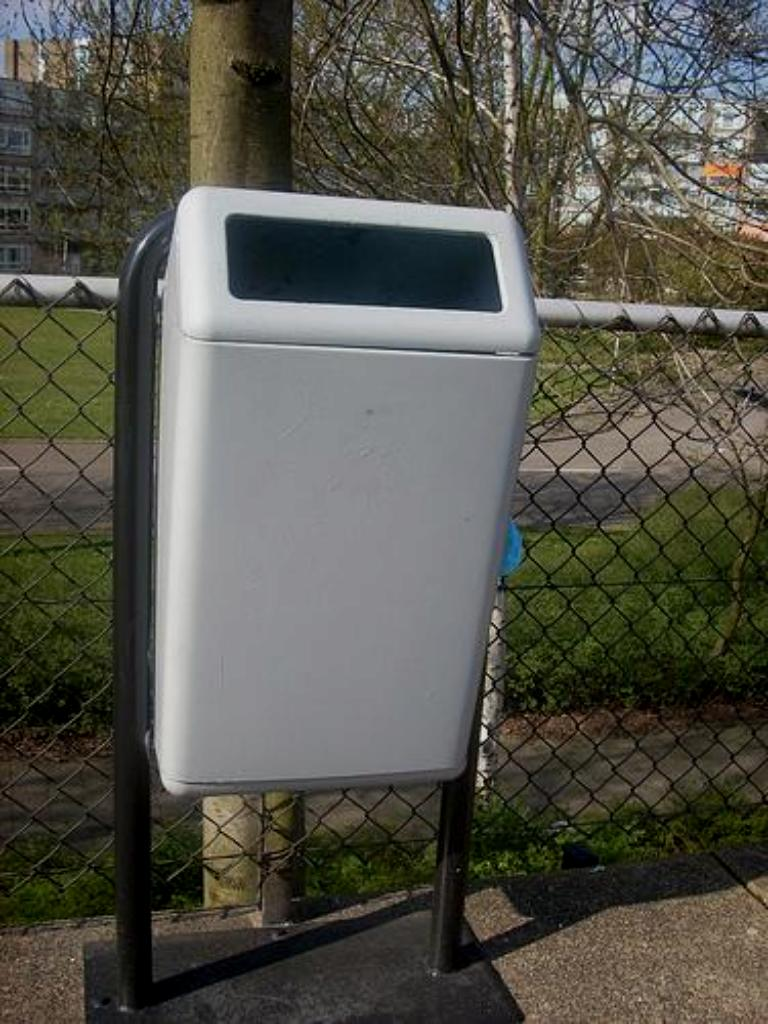dustbin: (112, 174, 535, 985)
